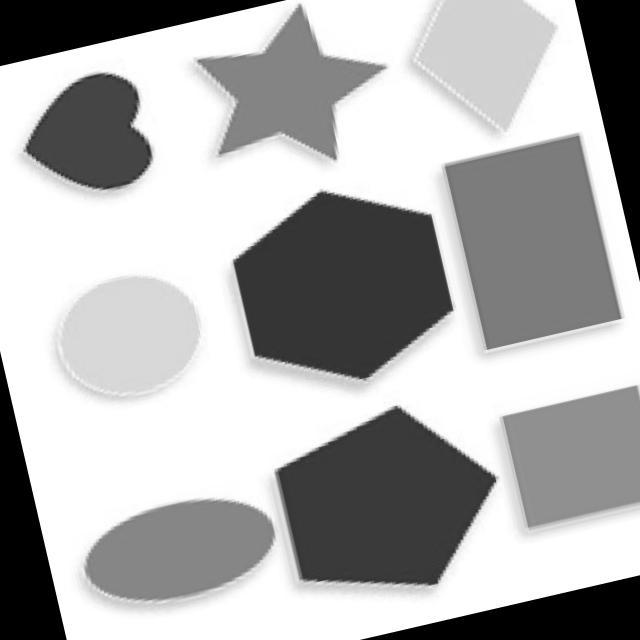circle: (28, 246, 252, 442)
square: (468, 366, 640, 550)
